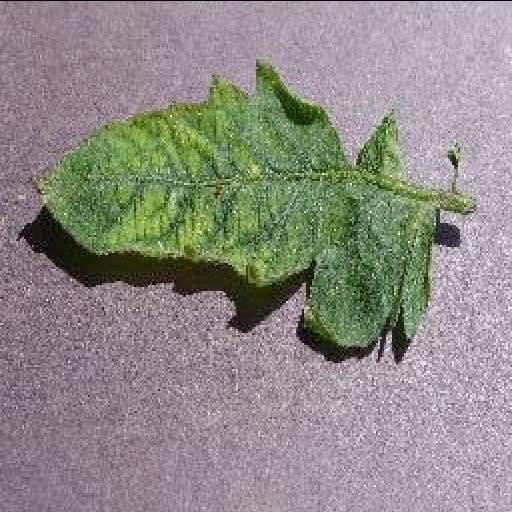Mosaic Virus: (28, 54, 444, 346)
